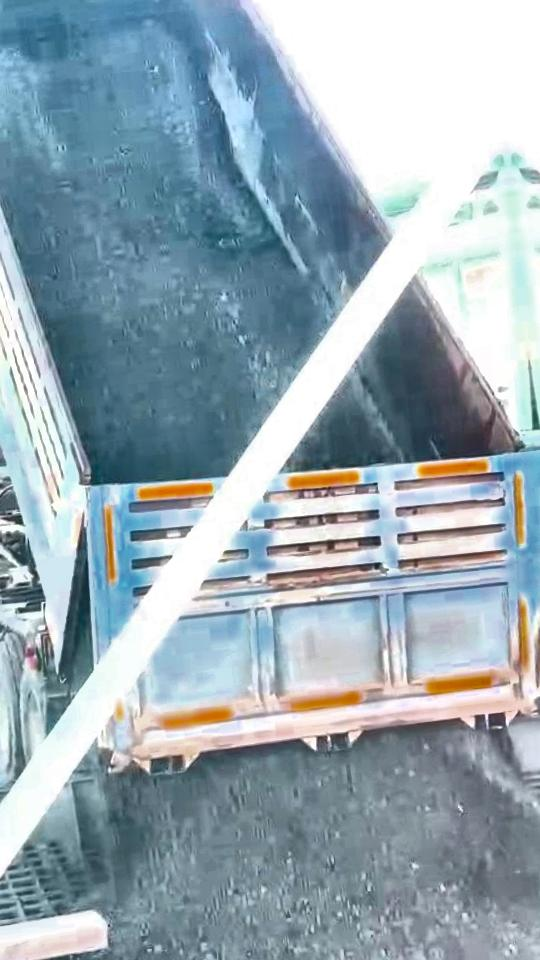gravel: (0, 25, 331, 482), (57, 724, 540, 960), (291, 377, 400, 469)
